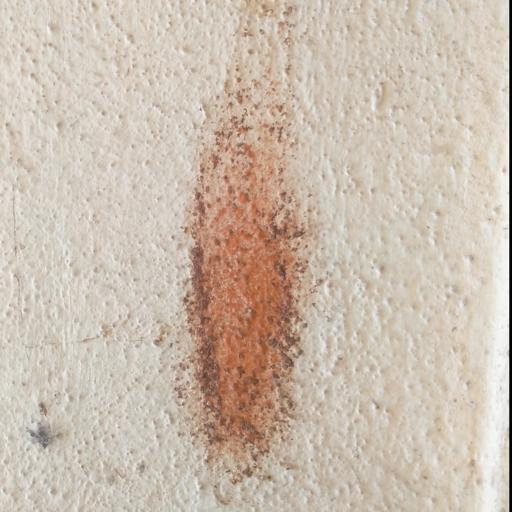stain: (162, 0, 321, 503), (18, 383, 71, 466)
